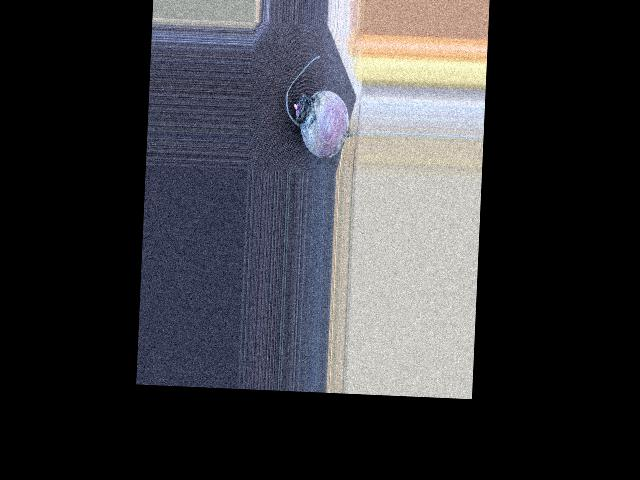beet: (282, 54, 363, 160)
